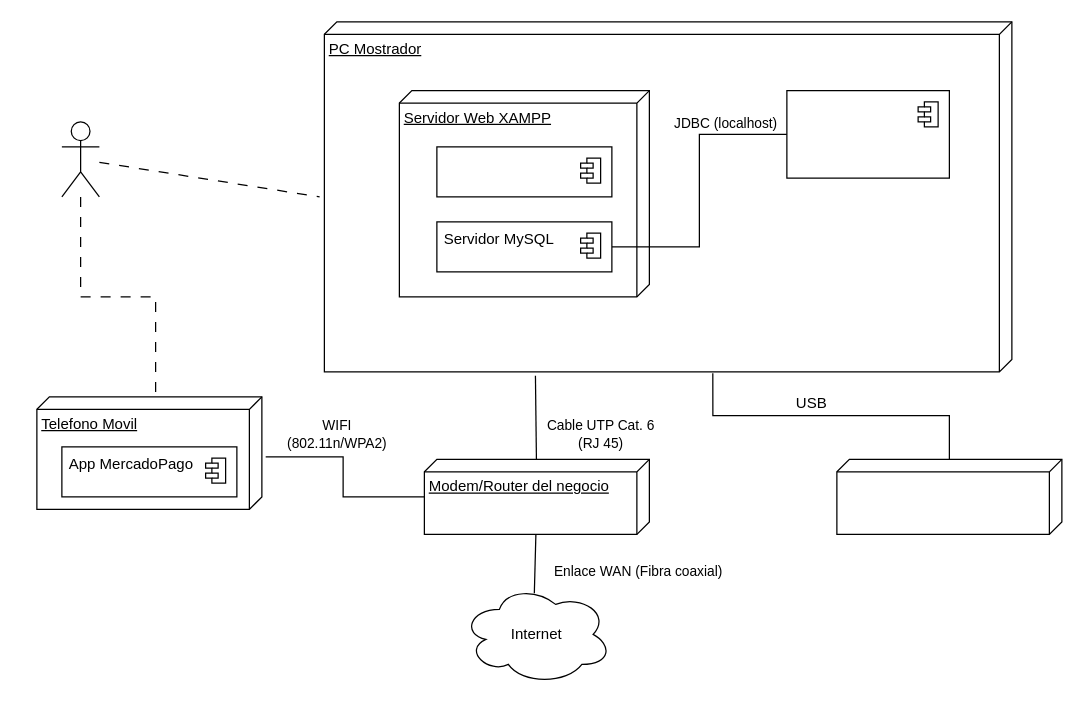
Image size: 1084x706. Some labels were removed from this diagram. Here are the shapes that lost their labels. From the top down, the centre of each, then its label:
the point at 867,133: Aplicacion de Escritorio JRMARKET
the point at 80,159: Operador (Adminisitrador o Vendedor o Repositor)
the point at 524,171: Apache Tomcat
the point at 949,496: Escaner Optico
